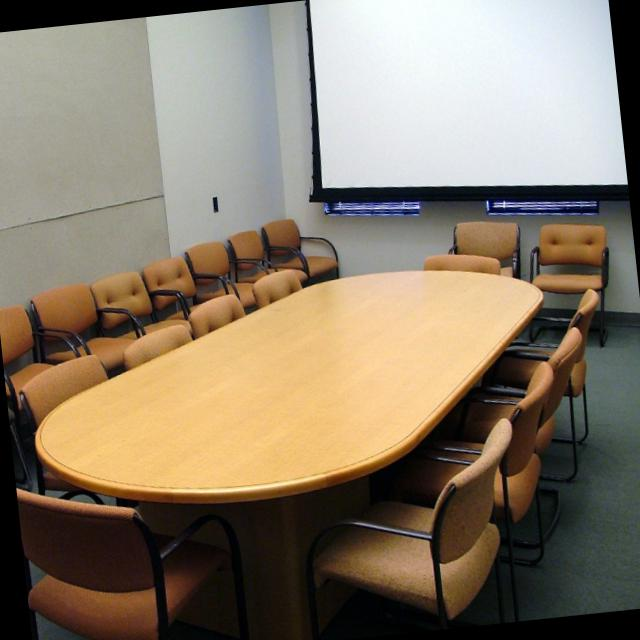2001: (484, 202, 597, 215)
2014: (321, 201, 421, 214)
chair -occluded-: (305, 418, 512, 639), (16, 486, 250, 640), (528, 221, 609, 351), (29, 281, 139, 371), (88, 267, 189, 336), (19, 353, 105, 425), (183, 238, 269, 306), (141, 253, 230, 317), (11, 302, 80, 382), (259, 215, 340, 277), (226, 227, 309, 282), (447, 218, 521, 276), (122, 323, 191, 365), (190, 293, 246, 334), (253, 269, 301, 302), (422, 251, 498, 270)
chairs desk: (426, 286, 600, 563)
electrical outlet: (212, 195, 218, 213)
floor -X: (12, 282, 640, 640)
screen occluded: (305, 0, 625, 201)
table -X: (33, 270, 544, 502)
wall clock: (270, 0, 640, 328), (0, 4, 282, 300)
